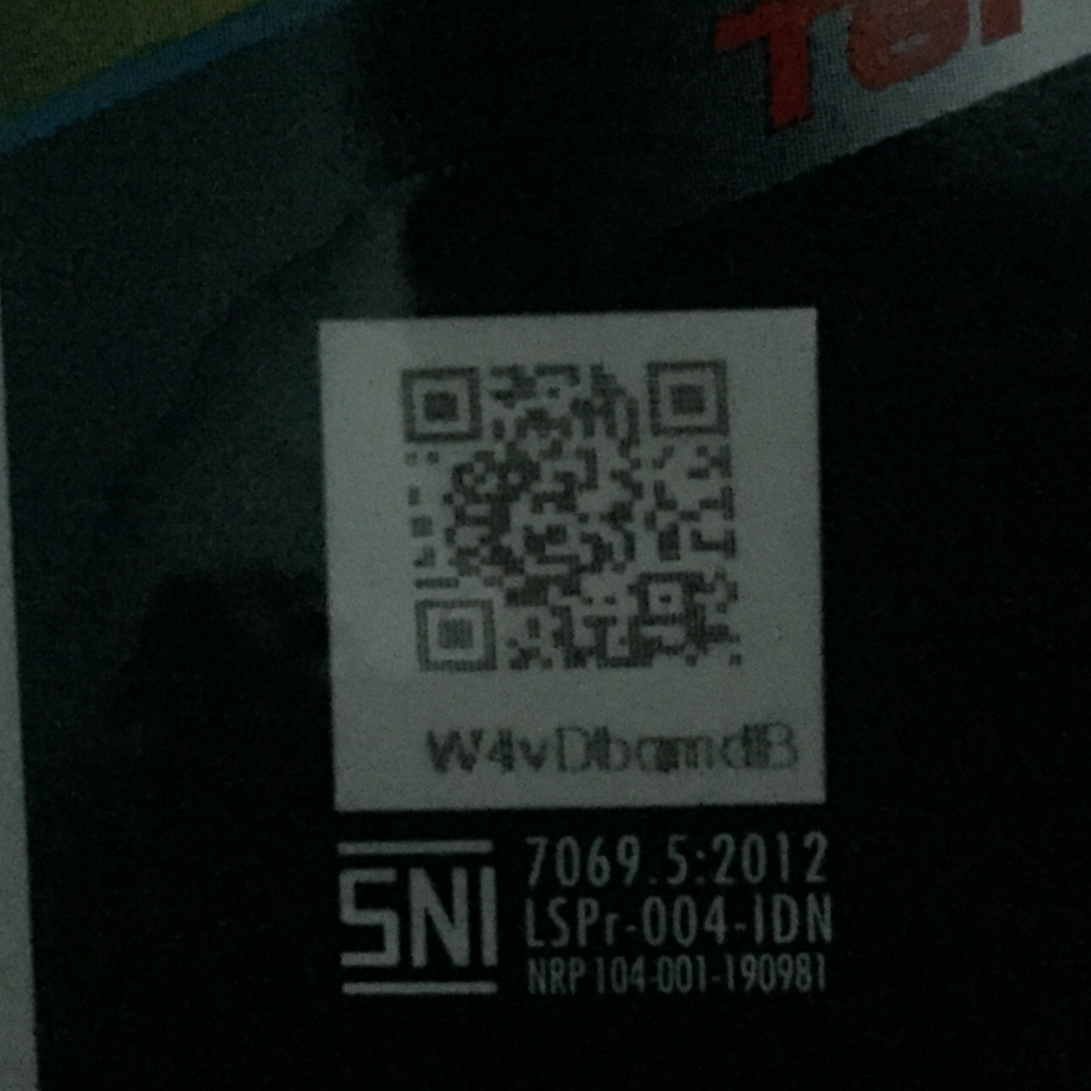QR-CODE: (382, 349, 773, 697)
